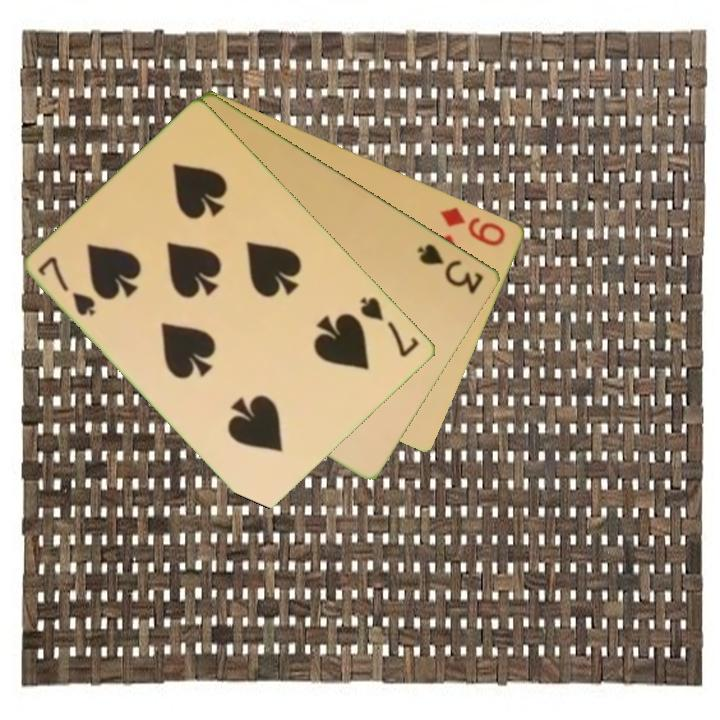3s: (414, 240, 487, 297)
7s: (357, 293, 423, 361), (34, 252, 99, 319)
9d: (437, 203, 509, 249)
